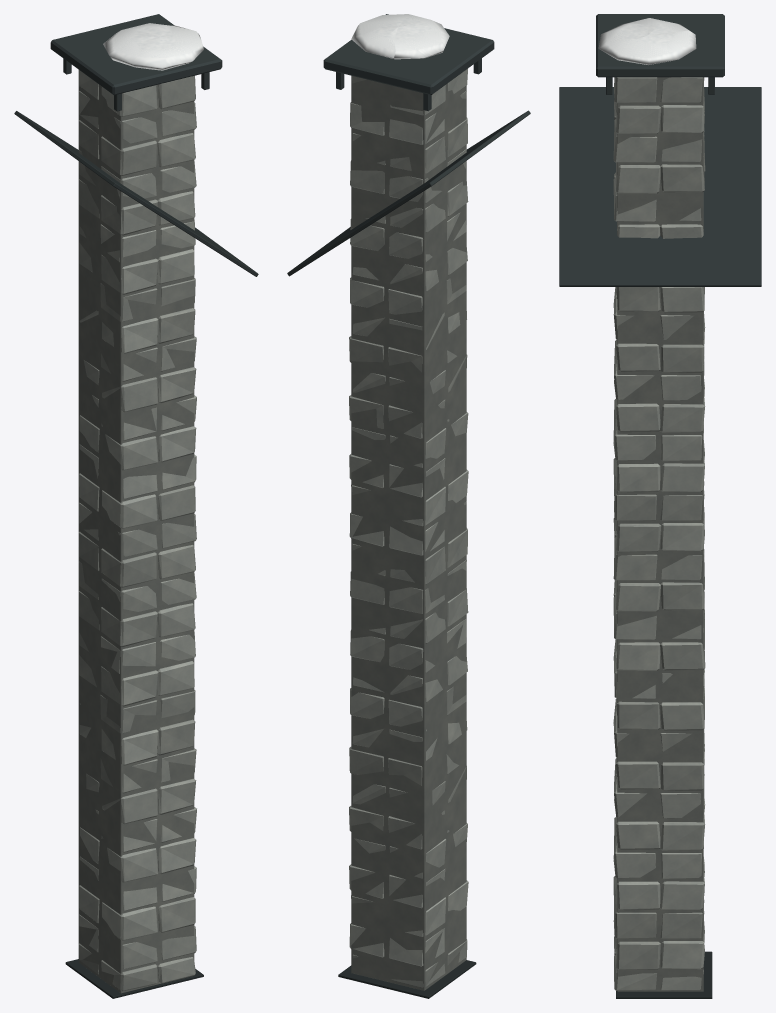
The picture shows the model from 3 angles, left to right: view 1: azimuth 30°, elevation 25°; view 2: azimuth 150°, elevation 25°; view 3: azimuth 270°, elevation 25°; orthographic projection.
Visible parts, largest first — view 1: Mesh_stone, Mesh_iron, Mesh_snow; view 2: Mesh_stone, Mesh_iron, Mesh_snow; view 3: Mesh_stone, Mesh_iron, Mesh_snow.
Boxes of the visible parts, <box> form: Mesh_stone: <box>78,70,196,993</box>; Mesh_iron: <box>14,14,258,998</box>; Mesh_snow: <box>103,23,203,70</box>; Mesh_stone: <box>349,68,468,990</box>; Mesh_iron: <box>287,14,530,998</box>; Mesh_snow: <box>351,14,449,59</box>; Mesh_stone: <box>613,77,705,991</box>; Mesh_iron: <box>559,14,761,998</box>; Mesh_snow: <box>598,18,696,64</box>.
Size of the model in its own units: 1.16 by 7.16 by 1.38.
Materials: 3 (2 with a texture image).
